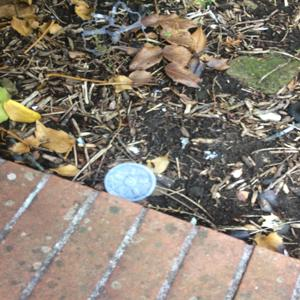plastic: (83, 6, 149, 51), (98, 149, 151, 202)
